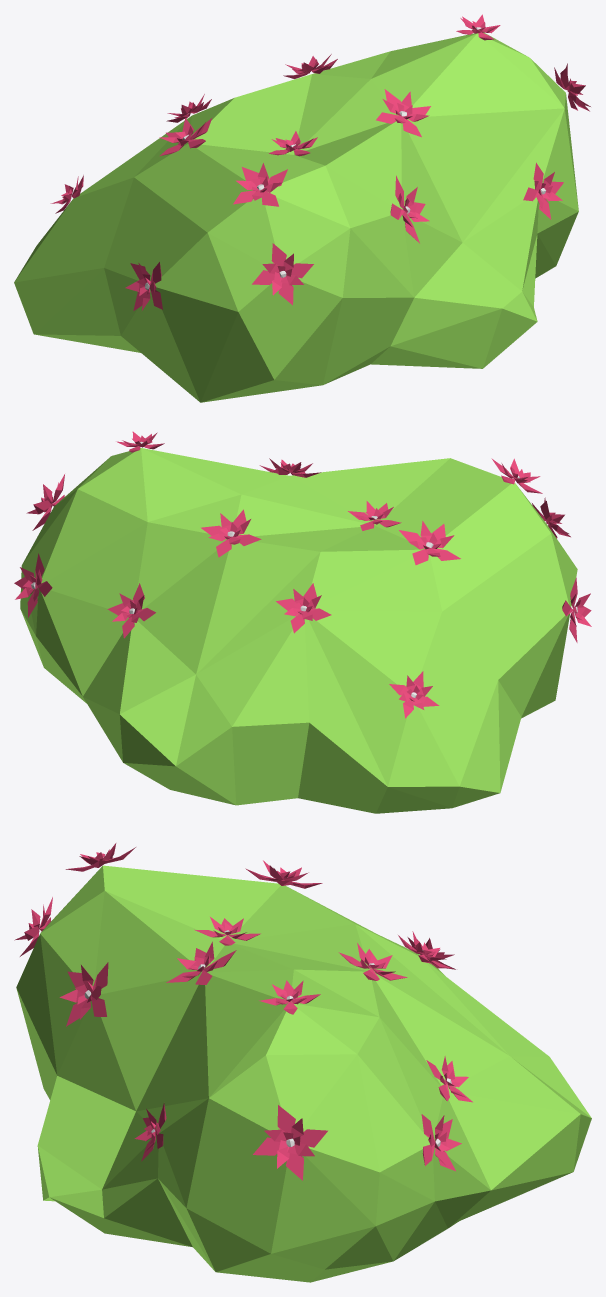
File: bush_03.fbx
3 renders of one model, top to bottom at view 1: azimuth 30°, elevation 25°; view 2: azimuth 150°, elevation 25°; view 3: azimuth 270°, elevation 25°, orthographic. The views are drawn at different scales.
Visible parts, largest first — view 1: bush_03; view 2: bush_03; view 3: bush_03.
Boxes of the visible parts, bbox=[...] form: bush_03: bbox=[14, 14, 590, 402]; bush_03: bbox=[14, 431, 591, 813]; bush_03: bbox=[14, 843, 591, 1282].
Size of the model in its own units: 121 by 54.71 by 105.
